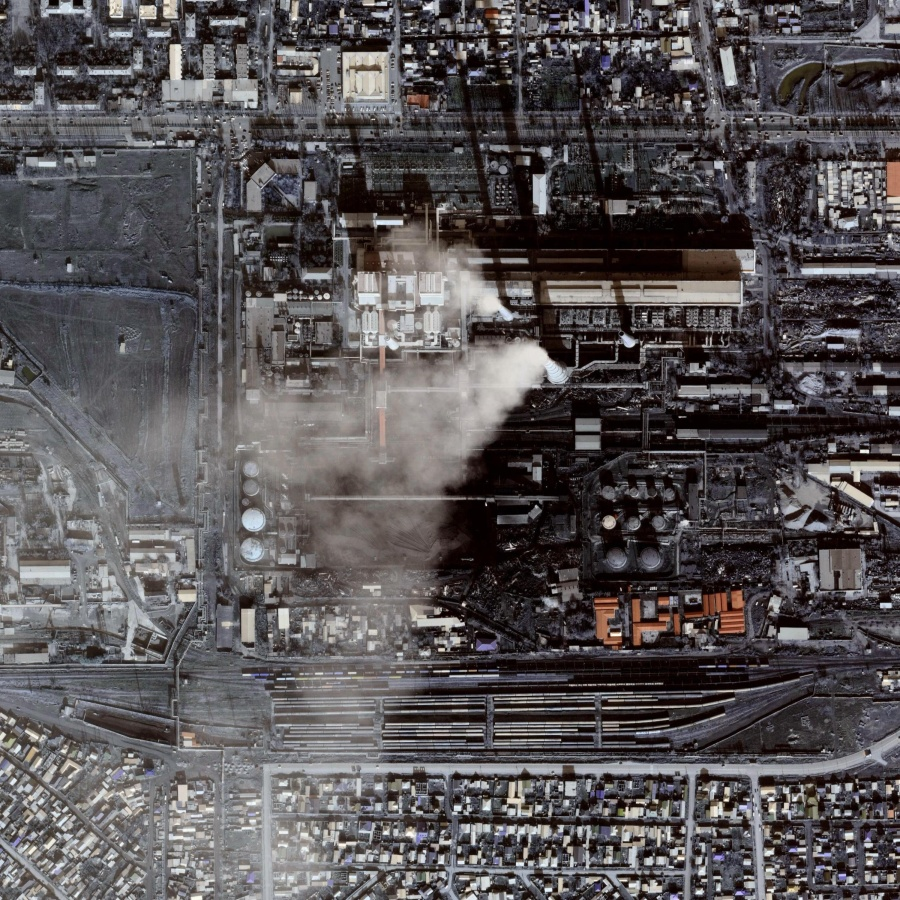PowerPlant: (245, 270, 749, 584)
